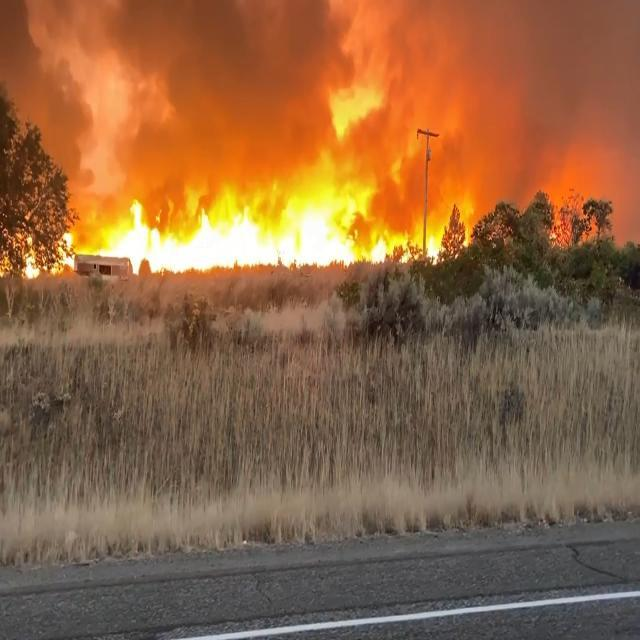Fire: (5, 81, 445, 271)
